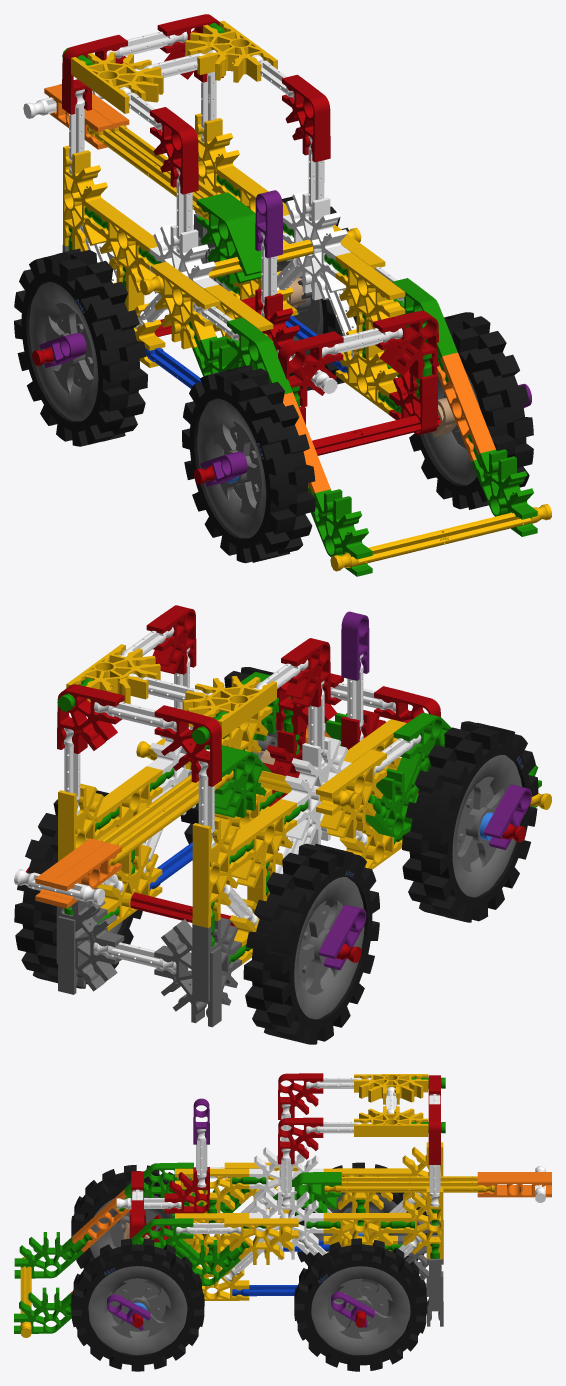
The picture shows the model from 3 angles, top to bottom: view 1: azimuth 30°, elevation 25°; view 2: azimuth 150°, elevation 25°; view 3: azimuth 270°, elevation 25°; orthographic projection. The views are drawn at different scales.
Parts seen in each view (by area): view 1: P2_L02.002; view 2: P2_L02.002; view 3: P2_L02.002.
Part boxes in pixels (box(x1,y1,x2,y2)): P2_L02.002: box(14, 14, 551, 576); P2_L02.002: box(14, 605, 551, 1044); P2_L02.002: box(14, 1073, 551, 1371).
Size of the model in its own units: 1.1 by 1.09 by 2.31.
